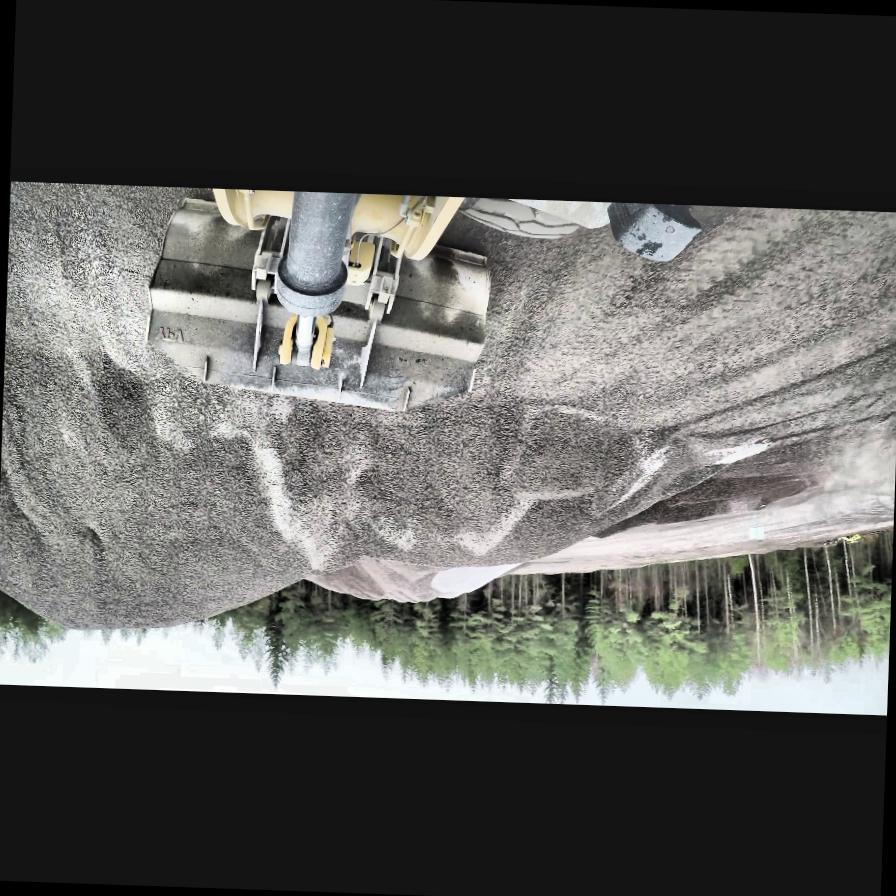anchor: (272, 313, 338, 371)
pile of gravel: (0, 348, 772, 657), (329, 558, 450, 606), (427, 562, 514, 602)
